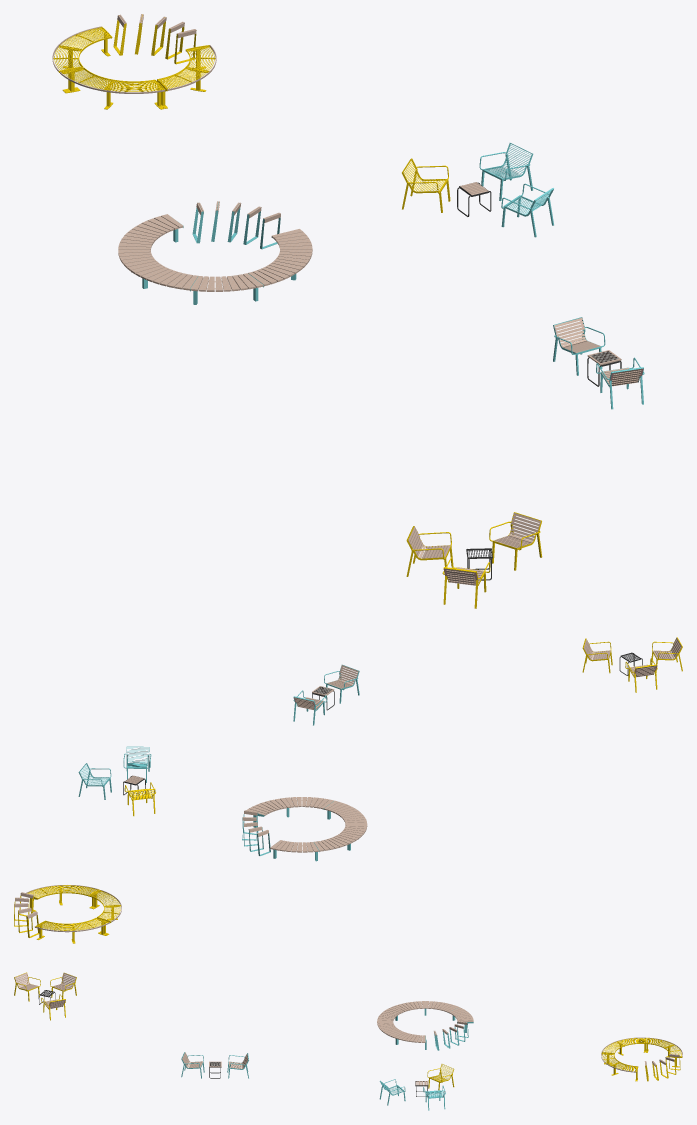
The model's file is mobiliarOld2.glb.
3 renders of one model, top to bottom at view 1: azimuth 30°, elevation 25°; view 2: azimuth 150°, elevation 25°; view 3: azimuth 270°, elevation 25°, orthographic. The views are drawn at different scales.
Visible parts, largest first — view 1: old mobiliar remeshed out.001; view 2: old mobiliar remeshed out.001; view 3: old mobiliar remeshed out.001.
Part boxes in pixels (x1=…): old mobiliar remeshed out.001: x1=52, y1=14, x2=644, y2=608; old mobiliar remeshed out.001: x1=14, y1=637, x2=682, y2=943; old mobiliar remeshed out.001: x1=14, y1=972, x2=682, y2=1110.
Size of the model in its own units: 10.78 by 0.7882 by 25.4.
6 materials, 2 textured.
